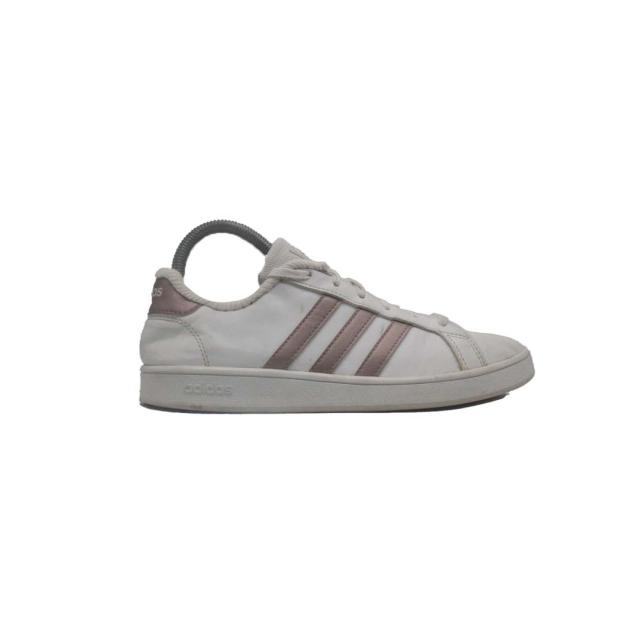heel: (125, 246, 175, 370)
midsole: (139, 355, 535, 417)
uppersole: (175, 227, 544, 375)
